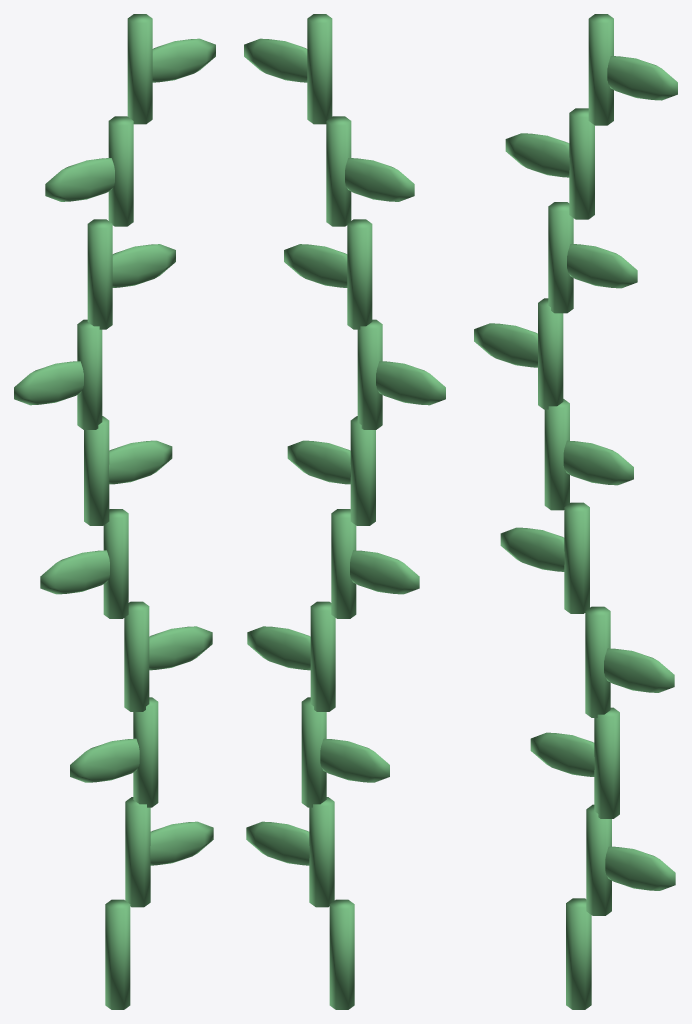
Rendered from Kelp.fbx.
3 views of the same model, side by side, from view 1: azimuth 30°, elevation 25°; view 2: azimuth 150°, elevation 25°; view 3: azimuth 330°, elevation 25° (orthographic).
Parts seen in each view (by area): view 1: Kelp_Kelp; view 2: Kelp_Kelp; view 3: Kelp_Kelp.
Boxes of the visible parts, x1,y1,x2,y2 form: Kelp_Kelp: (14, 14, 215, 1009); Kelp_Kelp: (244, 14, 445, 1009); Kelp_Kelp: (474, 14, 677, 1009).
Bounding box in the file's own units: 129 × 602 × 14.
